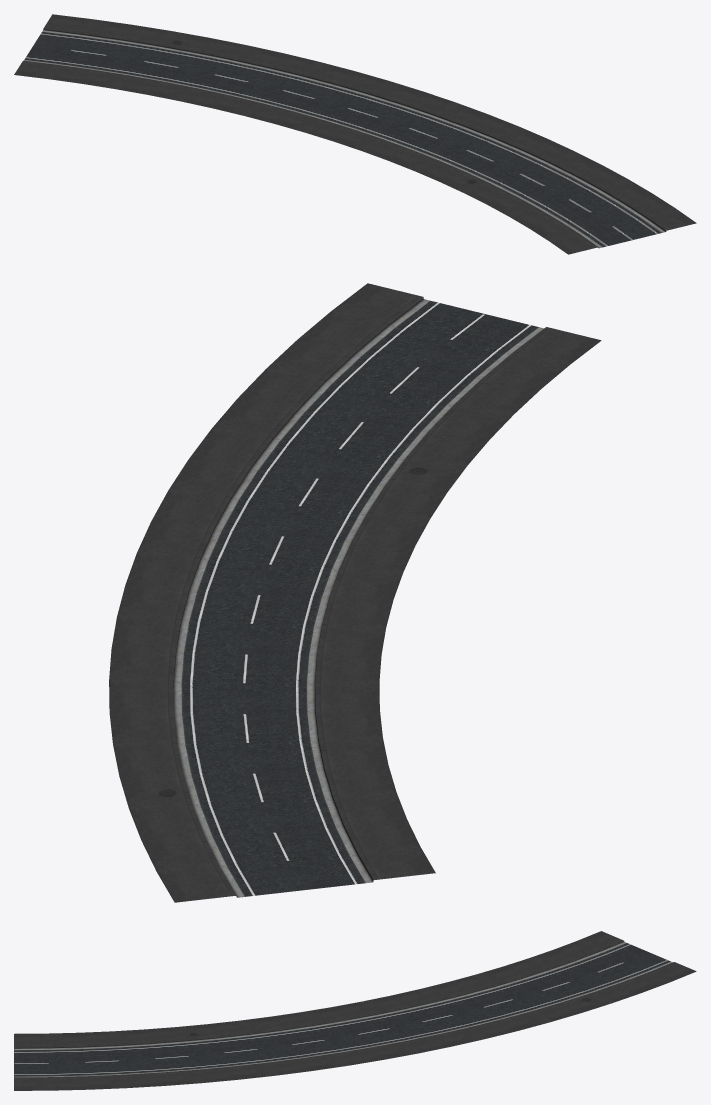
The model's file is city_road_45left.fbx.
The picture shows the model from 3 angles, top to bottom: view 1: azimuth 30°, elevation 25°; view 2: azimuth 150°, elevation 25°; view 3: azimuth 270°, elevation 25°; orthographic projection. The views are drawn at different scales.
Parts seen in each view (by area): view 1: obj0; view 2: obj0; view 3: obj0.
Boxes of the visible parts, bbox=[...] form: obj0: bbox=[14, 14, 696, 254]; obj0: bbox=[109, 283, 601, 902]; obj0: bbox=[14, 931, 696, 1090].
Size of the model in its own units: 81.77 by 0.254 by 148.
